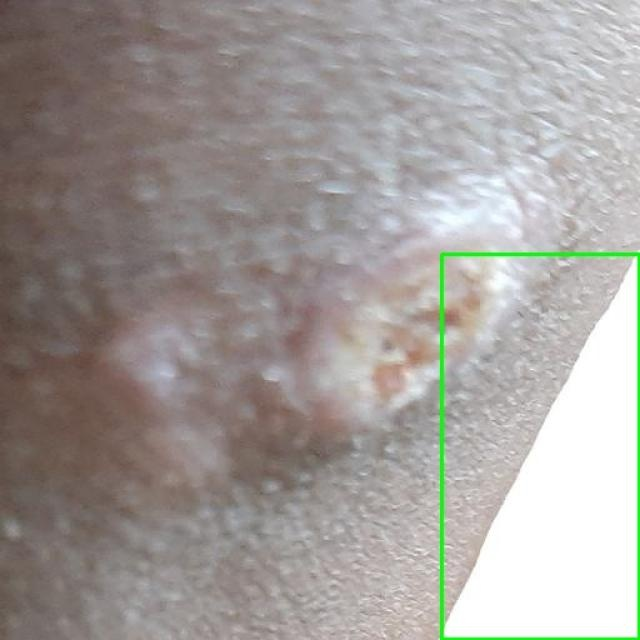Eczema: (441, 254, 639, 639)
